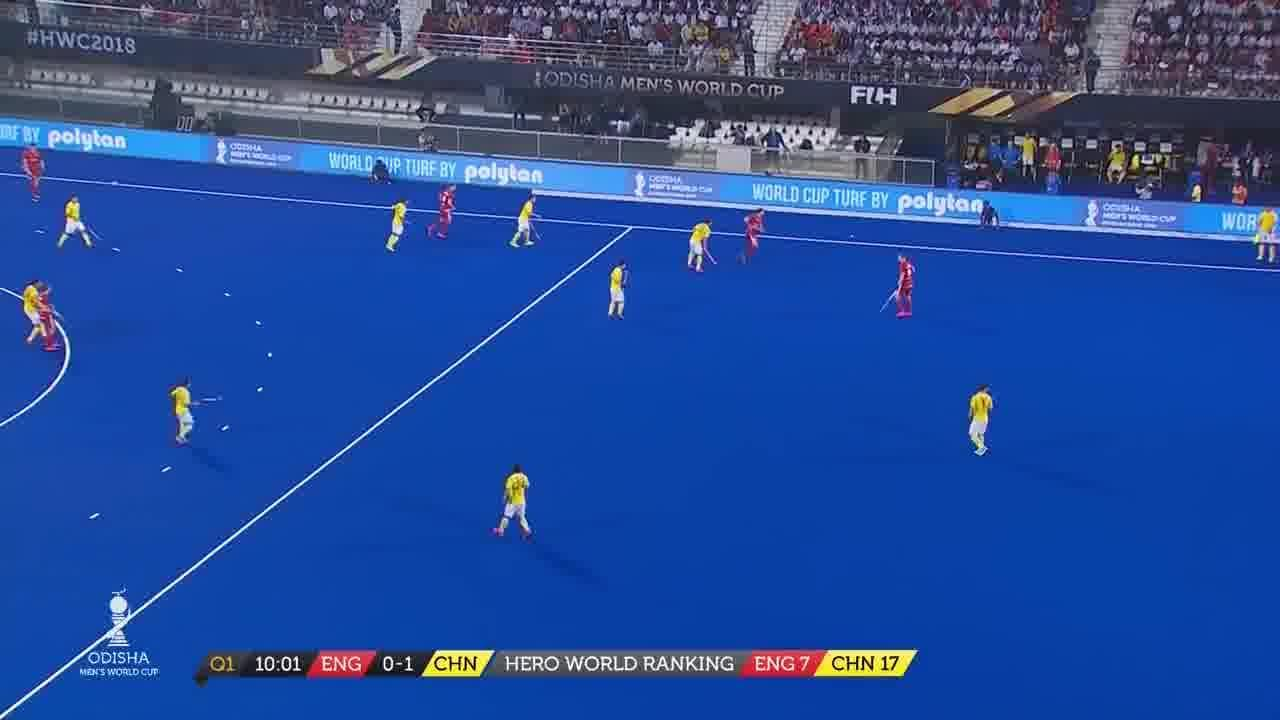ball: (846, 228, 860, 242)
